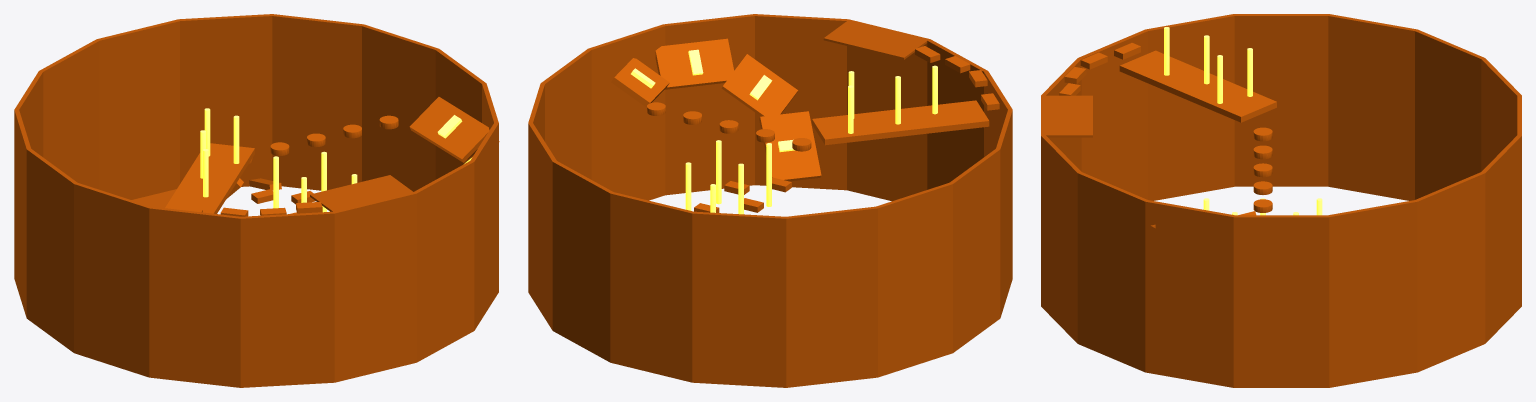
Rendered from Stage_2.fbx.
3 views of the same model, side by side, from view 1: azimuth 30°, elevation 25°; view 2: azimuth 150°, elevation 25°; view 3: azimuth 270°, elevation 25° (orthographic).
Parts seen in each view (by area): view 1: stage_2, stage_2_deads; view 2: stage_2, stage_2_deads; view 3: stage_2, stage_2_deads.
Part boxes in pixels (x1,y1,x2,y2): stage_2: [14, 14, 499, 387]; stage_2_deads: [200, 108, 472, 212]; stage_2: [528, 14, 1012, 387]; stage_2_deads: [631, 49, 937, 214]; stage_2: [1041, 14, 1521, 387]; stage_2_deads: [1164, 27, 1322, 215].
Size of the model in its own units: 102 by 102 by 48.6.
